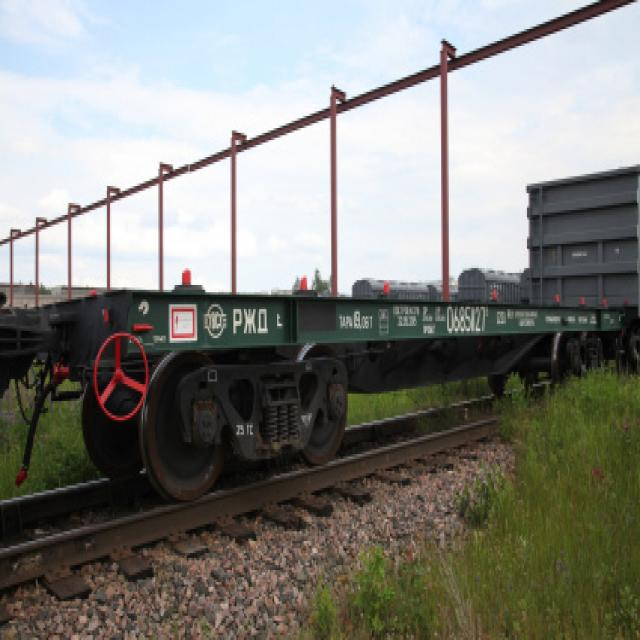flatcar: (32, 282, 624, 508)
gondola: (522, 157, 640, 340)
